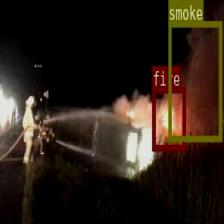fire: (152, 86, 184, 150)
smoke: (168, 21, 221, 140)
